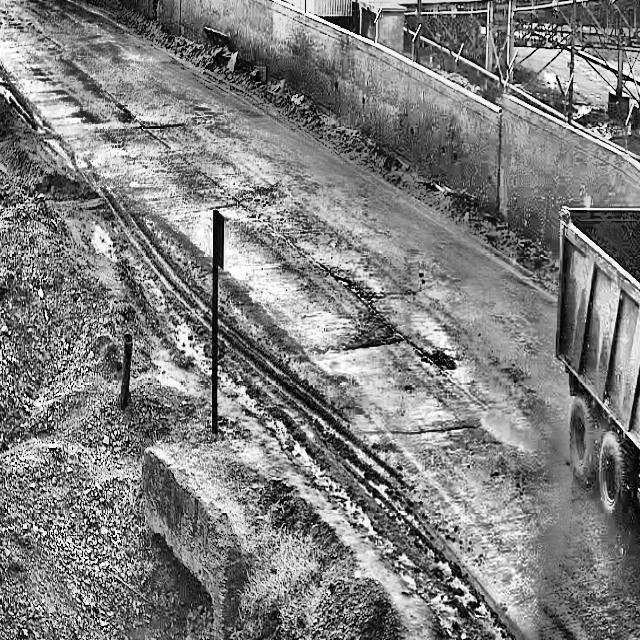dump_truck: (547, 168, 640, 640)
